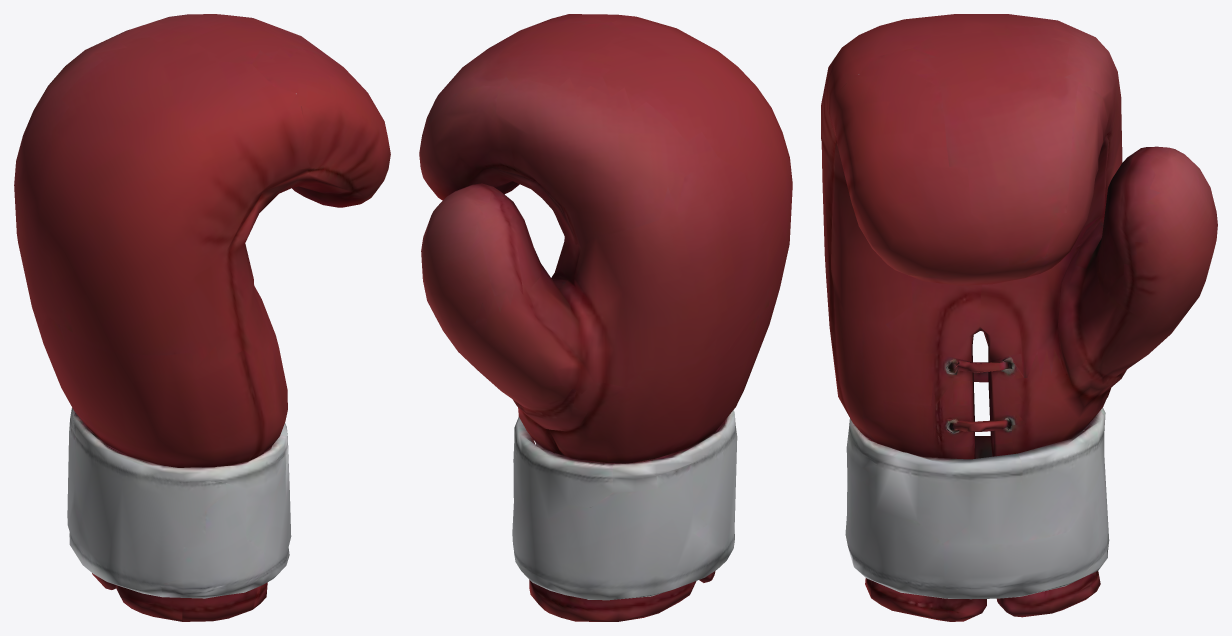
The model's file is glove.glb.
The picture shows the model from 3 angles, left to right: view 1: azimuth 30°, elevation 25°; view 2: azimuth 150°, elevation 25°; view 3: azimuth 270°, elevation 25°; orthographic projection. The views are drawn at different scales.
Parts seen in each view (by area): view 1: tripo_node_70b9cbd8-75a3-433e-b116-17a6b0342dd4; view 2: tripo_node_70b9cbd8-75a3-433e-b116-17a6b0342dd4; view 3: tripo_node_70b9cbd8-75a3-433e-b116-17a6b0342dd4.
Boxes of the visible parts, x1,y1,x2,y2 form: tripo_node_70b9cbd8-75a3-433e-b116-17a6b0342dd4: (14, 14, 390, 621); tripo_node_70b9cbd8-75a3-433e-b116-17a6b0342dd4: (419, 14, 792, 621); tripo_node_70b9cbd8-75a3-433e-b116-17a6b0342dd4: (821, 14, 1217, 621).
Bounding box in the file's own units: 0.1896 × 0.3 × 0.1908.
1 material, 1 textured.
